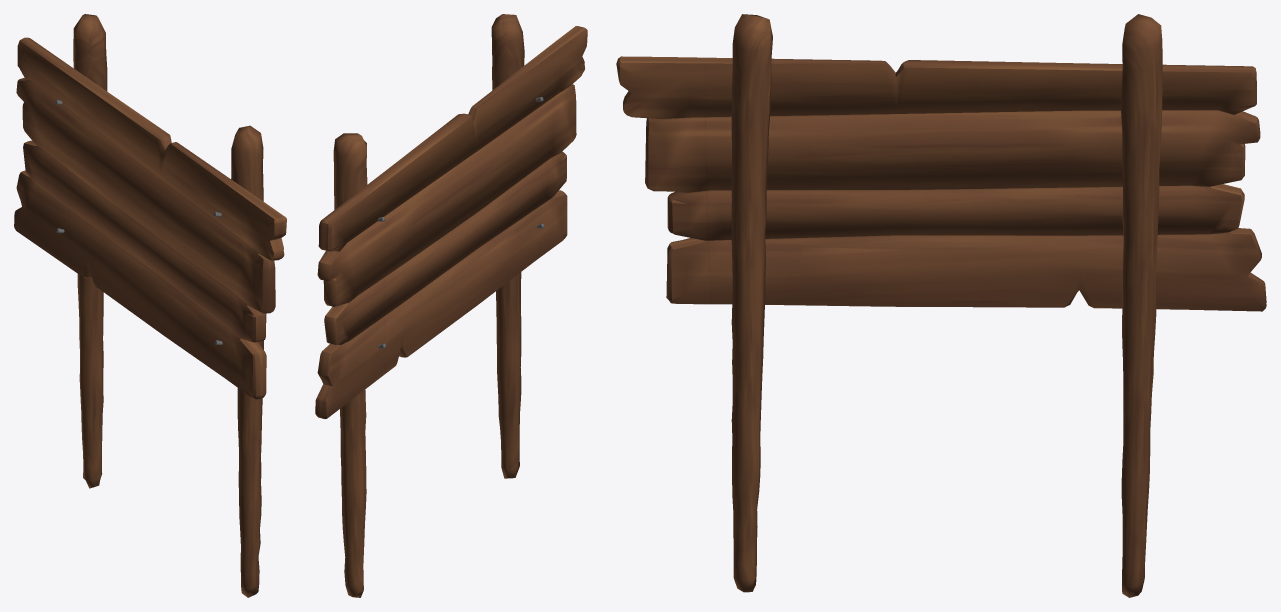
The model's file is Swamp Sign.fbx.
3 renders of one model, left to right at view 1: azimuth 30°, elevation 25°; view 2: azimuth 150°, elevation 25°; view 3: azimuth 270°, elevation 25°, orthographic. The views are drawn at different scales.
Visible parts, largest first — view 1: Wood_01_05_low, Wood_01_07_low3, Wood_01_07_low4; view 2: Wood_01_05_low, Wood_01_07_low3, Wood_01_07_low4; view 3: Wood_01_05_low, Wood_01_07_low3, Wood_01_07_low4.
Boxes of the visible parts, x1,y1,x2,y2 form: Wood_01_05_low: (14, 37, 286, 399); Wood_01_07_low3: (73, 14, 107, 488); Wood_01_07_low4: (231, 125, 263, 597); Wood_01_05_low: (315, 26, 587, 418); Wood_01_07_low3: (333, 133, 367, 597); Wood_01_07_low4: (491, 14, 524, 478); Wood_01_05_low: (616, 56, 1266, 311); Wood_01_07_low3: (1121, 14, 1162, 597); Wood_01_07_low4: (731, 14, 772, 592).
Size of the model in its own units: 8.15 by 75.67 by 74.96.
